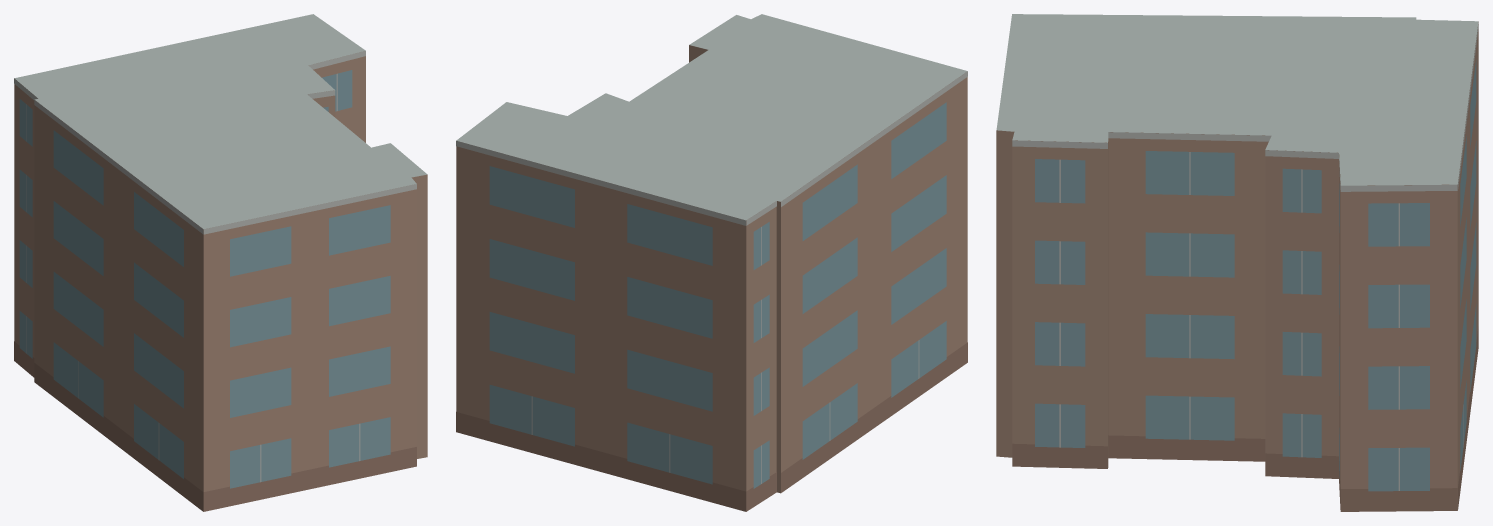
File: survey-upis-32632134.glb
3 views of the same model, side by side, from view 1: azimuth 30°, elevation 25°; view 2: azimuth 150°, elevation 25°; view 3: azimuth 270°, elevation 25° (orthographic). The views are drawn at different scales.
Visible parts, largest first — view 1: survey-upis-32632134.tmp; view 2: survey-upis-32632134.tmp; view 3: survey-upis-32632134.tmp.
Part boxes in pixels (x1,y1,x2,y2): survey-upis-32632134.tmp: [14, 14, 427, 511]; survey-upis-32632134.tmp: [456, 14, 967, 511]; survey-upis-32632134.tmp: [996, 14, 1478, 511].
Bounding box in the file's own units: 14.46 × 12.8 × 17.16.
